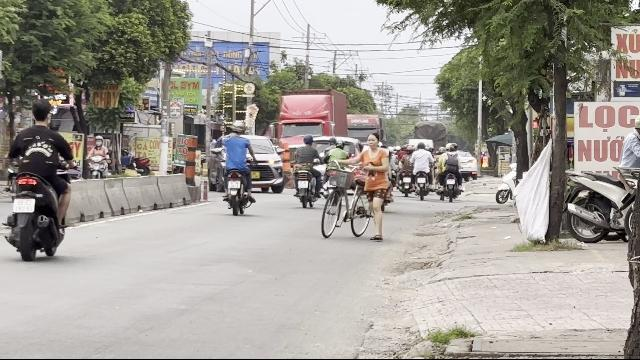licenseplate: (13, 199, 34, 212)
motorcyclist: (2, 97, 74, 260)
nohelmet: (29, 99, 53, 126)
